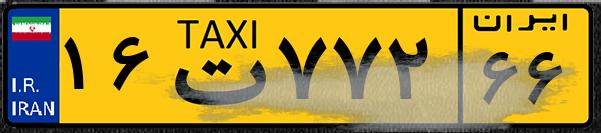1: (57, 26, 110, 100)
2: (385, 28, 445, 110)
6: (475, 38, 525, 113), (525, 38, 570, 115), (110, 28, 158, 98)
7: (270, 28, 330, 110), (330, 28, 385, 110)
ت: (158, 12, 270, 120)
